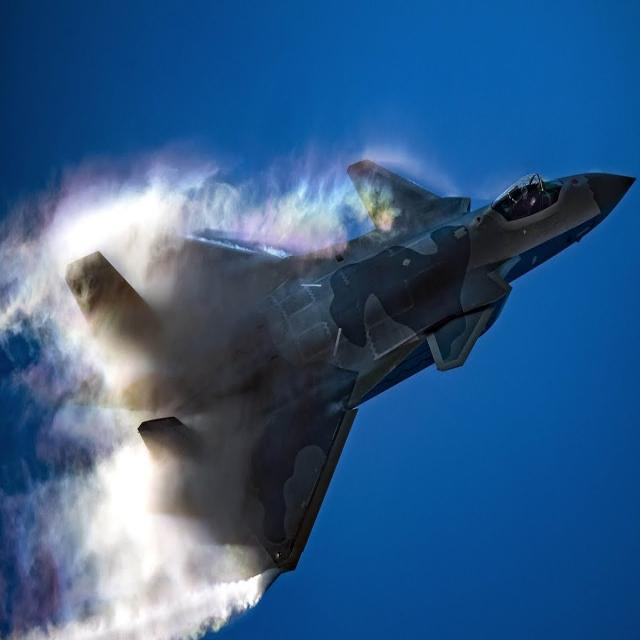MIL_Plane: (64, 158, 638, 596)
